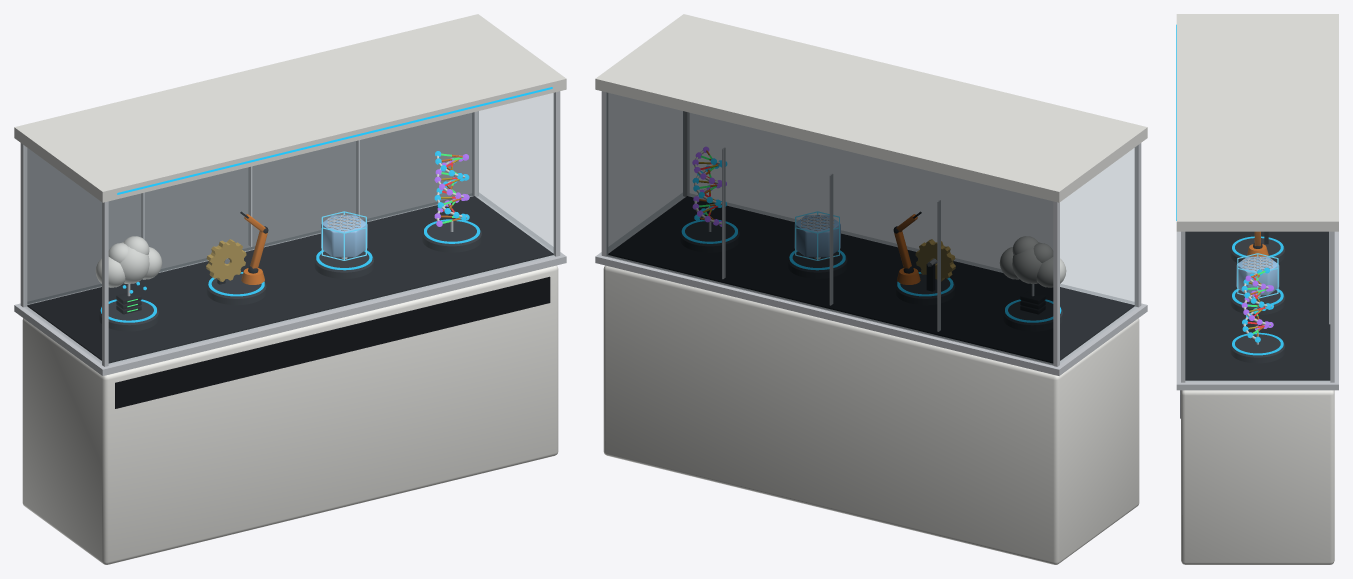
The model's file is other_tech_case.glb.
The picture shows the model from 3 angles, left to right: view 1: azimuth 30°, elevation 25°; view 2: azimuth 150°, elevation 25°; view 3: azimuth 270°, elevation 25°; orthographic projection. The views are drawn at different scales.
Visible parts, largest first — view 1: caseBody, cloudBody, hexBody, dnaBody, caseGear, autoBody; view 2: caseBody, cloudBody, hexBody, dnaBody, autoBody, caseGear; view 3: caseBody, hexBody, dnaBody, autoBody.
Boxes of the visible parts, <box> form: caseBody: <box>14,14,566,564</box>; cloudBody: <box>95,236,162,314</box>; hexBody: <box>321,211,367,260</box>; dnaBody: <box>434,151,469,231</box>; caseGear: <box>206,239,246,281</box>; autoBody: <box>217,211,268,284</box>; caseBody: <box>595,14,1147,564</box>; cloudBody: <box>1000,236,1066,314</box>; hexBody: <box>794,211,840,260</box>; dnaBody: <box>692,147,726,231</box>; autoBody: <box>894,212,936,291</box>; caseGear: <box>915,239,955,281</box>; caseBody: <box>1176,14,1338,564</box>; hexBody: <box>1236,253,1279,298</box>; dnaBody: <box>1241,267,1273,344</box>; autoBody: <box>1247,231,1268,256</box>.
Bounding box in the file's own units: 2.24 × 1.75 × 0.7431.
Materials: 18 (1 with a texture image).
